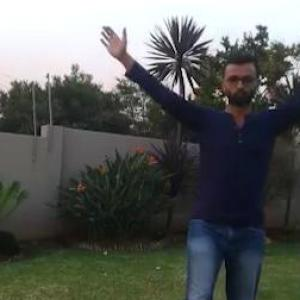takeoff: (107, 34, 299, 299)
